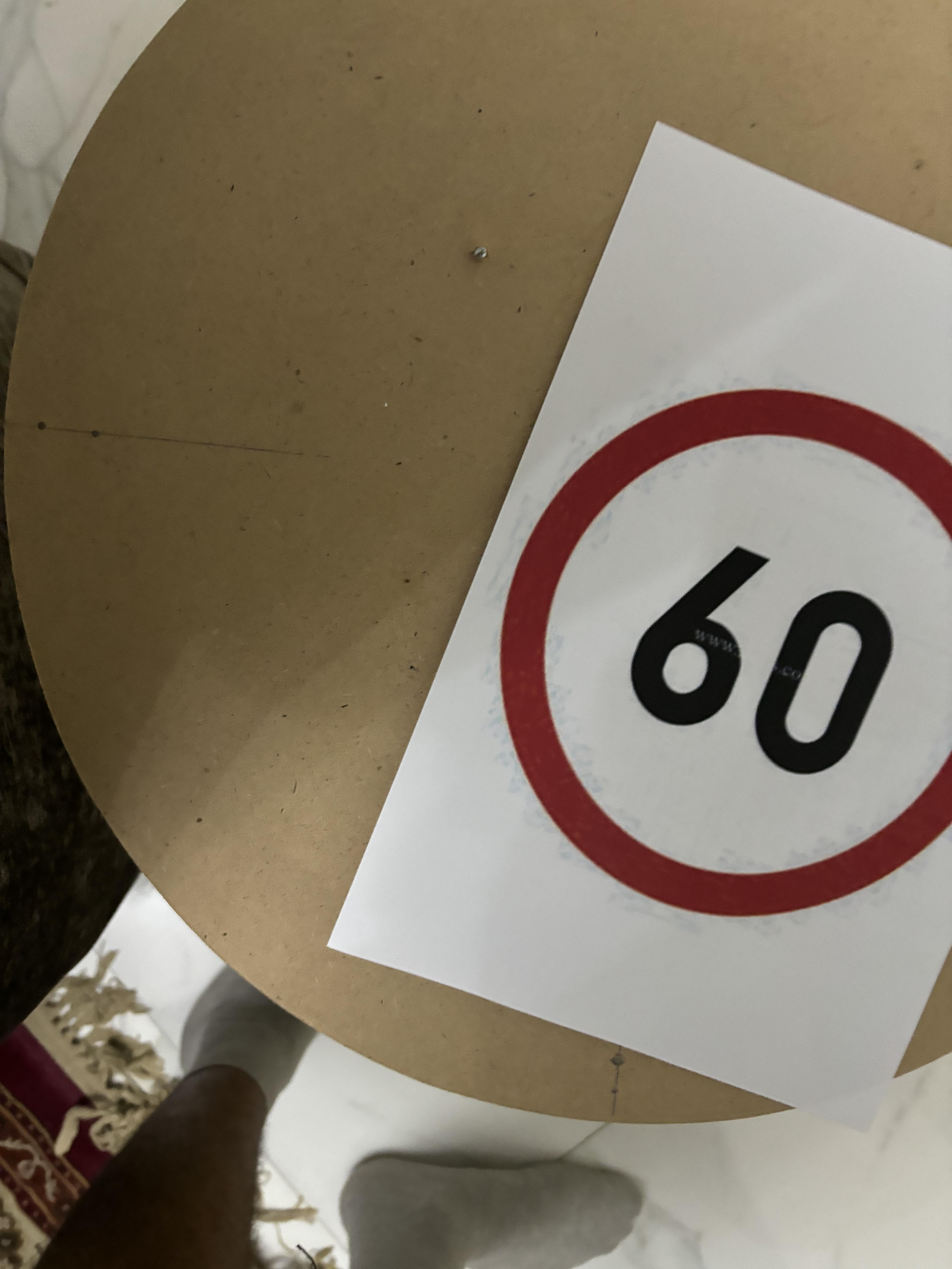60-Speed: (498, 374, 952, 929)
